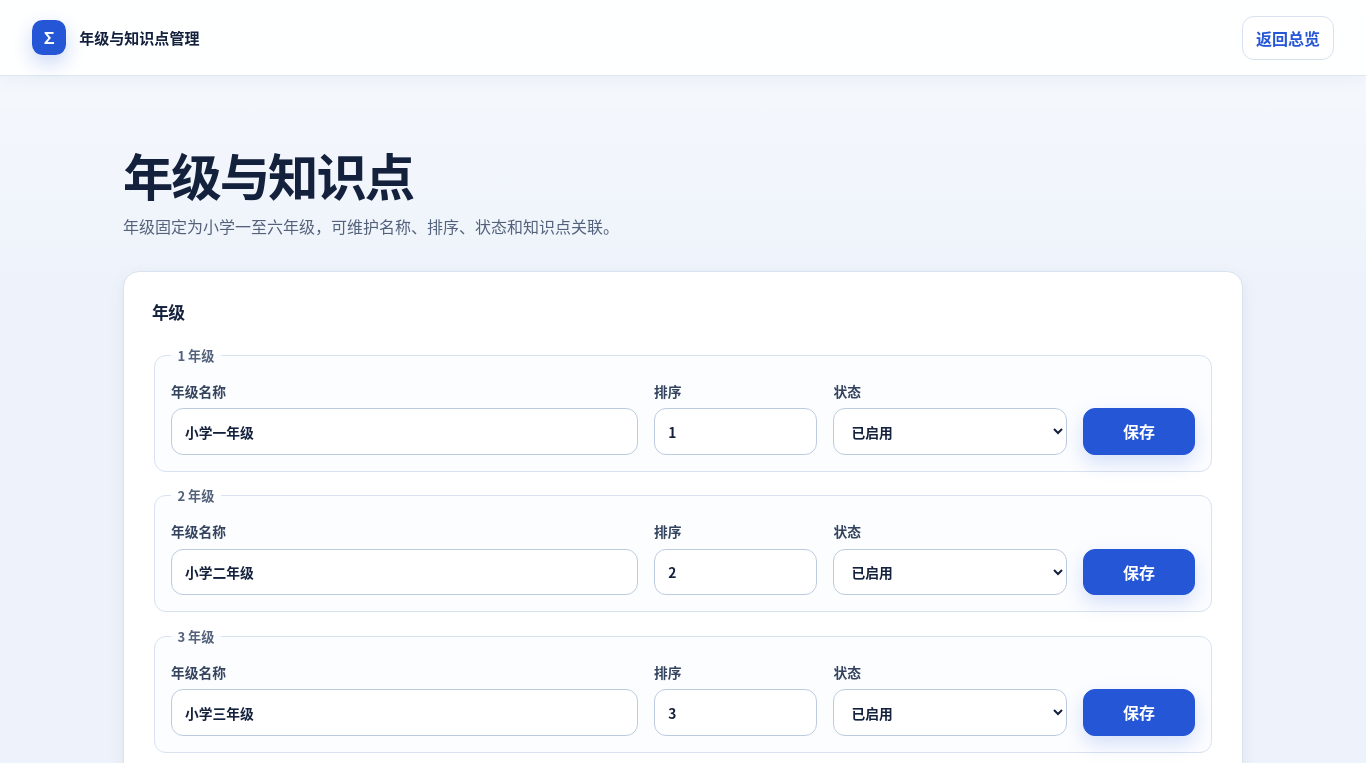
grade and knowledge-point management › shows a grade conflict without reporting a successful save
Click the 1st button "保存" at {"x": 1139, "y": 432}, box x1=1083 y1=408 x2=1195 y2=455
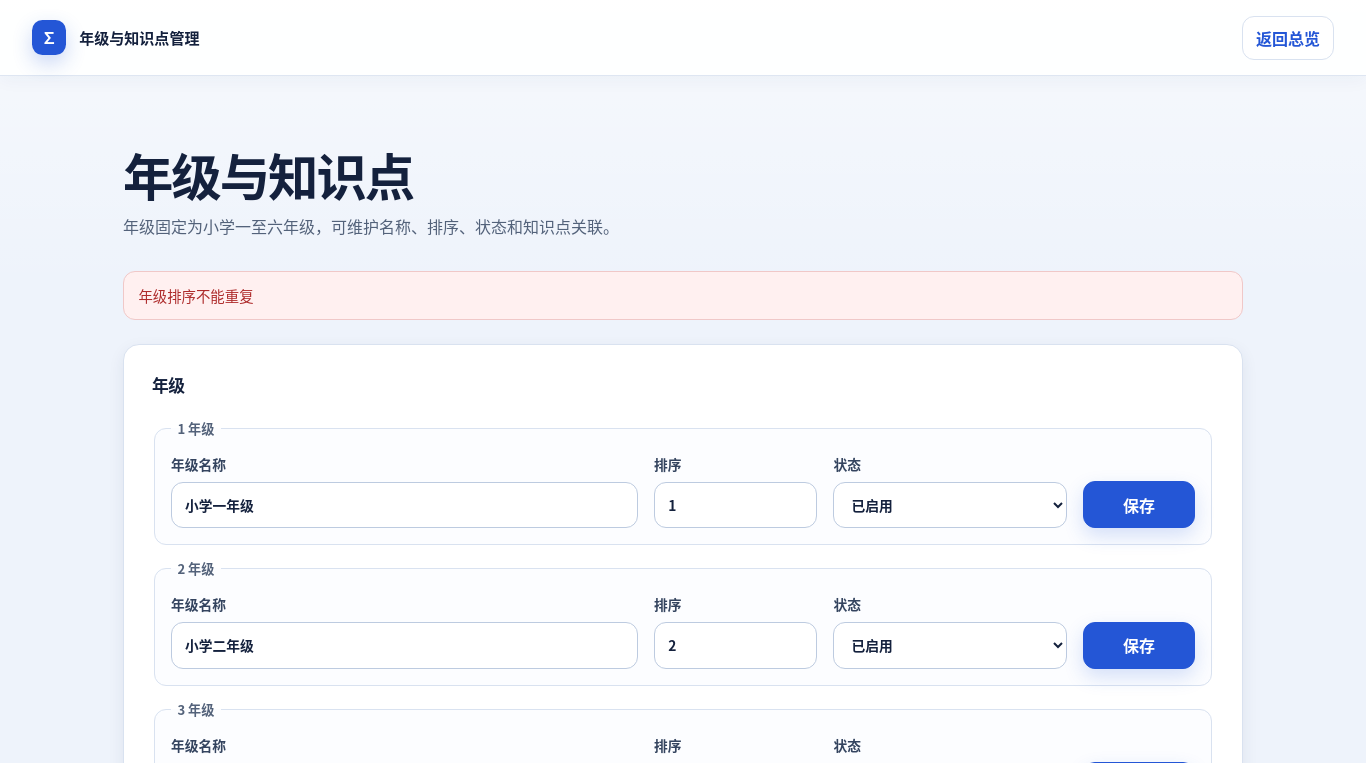
expect the message reads "年级排序不能重复": met, box x1=138 y1=285 x2=254 y2=306
